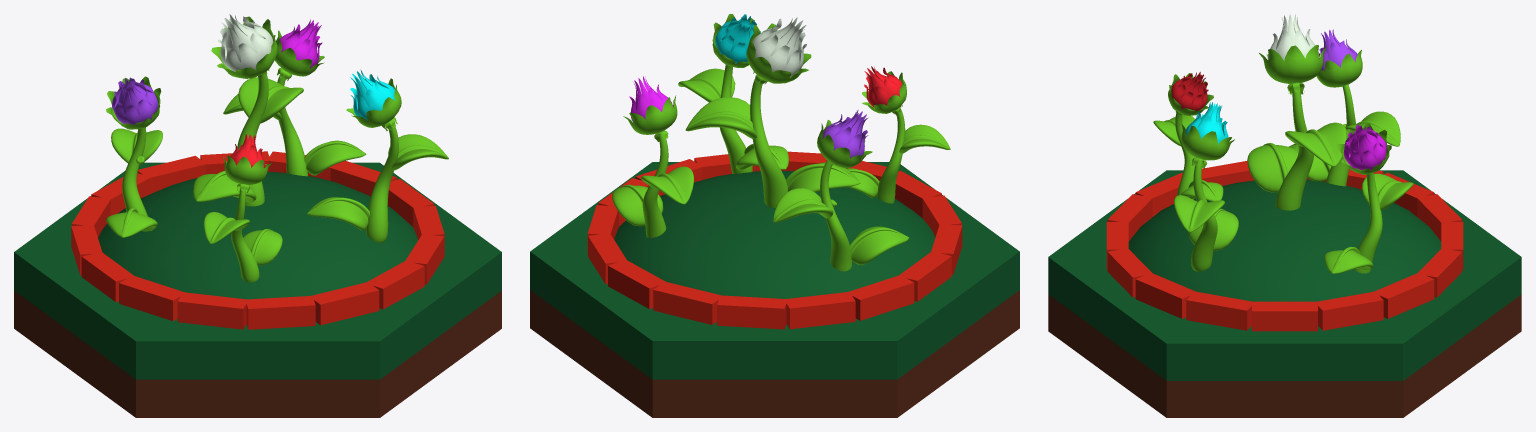
Rendered from SM_Flower_2.FBX.
3 views of the same model, side by side, from view 1: azimuth 30°, elevation 25°; view 2: azimuth 150°, elevation 25°; view 3: azimuth 270°, elevation 25° (orthographic). The views are drawn at different scales.
Visible parts, largest first — view 1: SM_Flower_2; view 2: SM_Flower_2; view 3: SM_Flower_2.
Boxes of the visible parts, <box> form: SM_Flower_2: <box>14,14,501,417</box>; SM_Flower_2: <box>530,14,1019,417</box>; SM_Flower_2: <box>1048,14,1521,417</box>.
Bounding box in the file's own units: 100 × 115 × 82.74.
